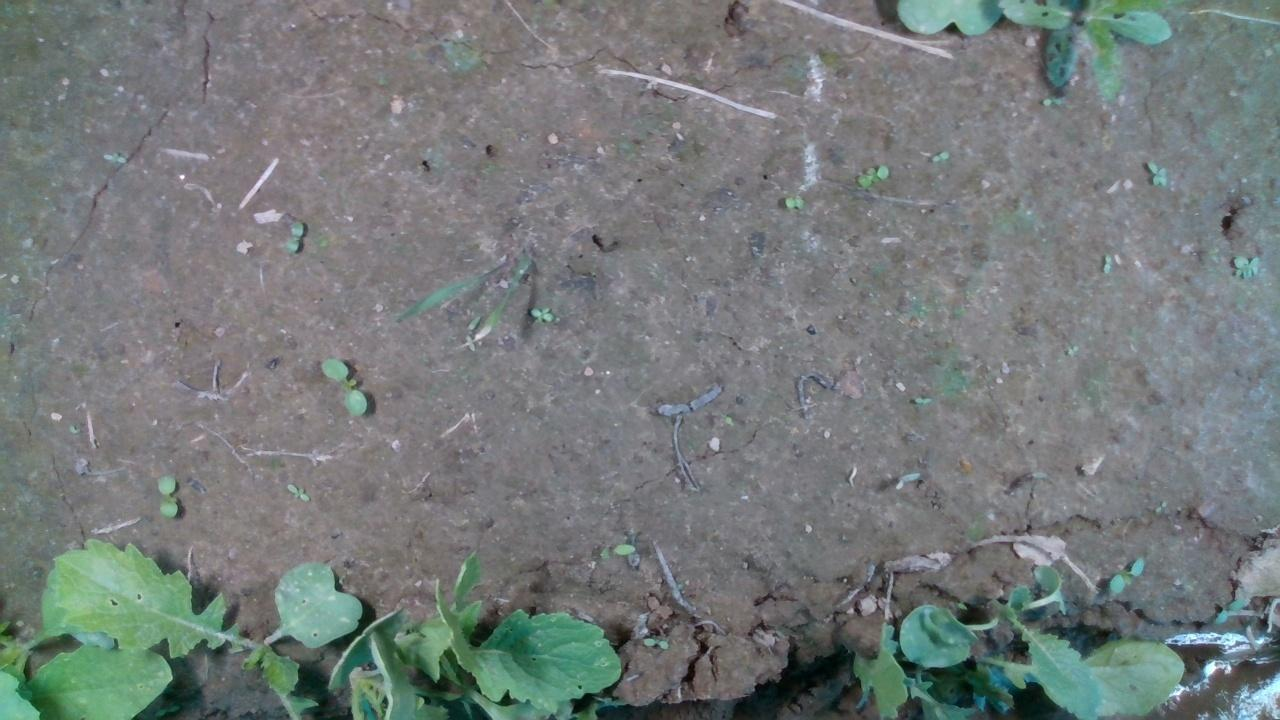weed: (317, 358, 367, 419), (1106, 553, 1146, 596), (153, 473, 180, 520), (1226, 251, 1261, 281), (854, 161, 890, 188), (281, 218, 303, 255), (597, 541, 637, 560), (1144, 157, 1168, 188), (780, 191, 808, 211), (283, 481, 311, 501), (527, 304, 554, 323), (640, 636, 668, 651), (927, 147, 949, 165)
